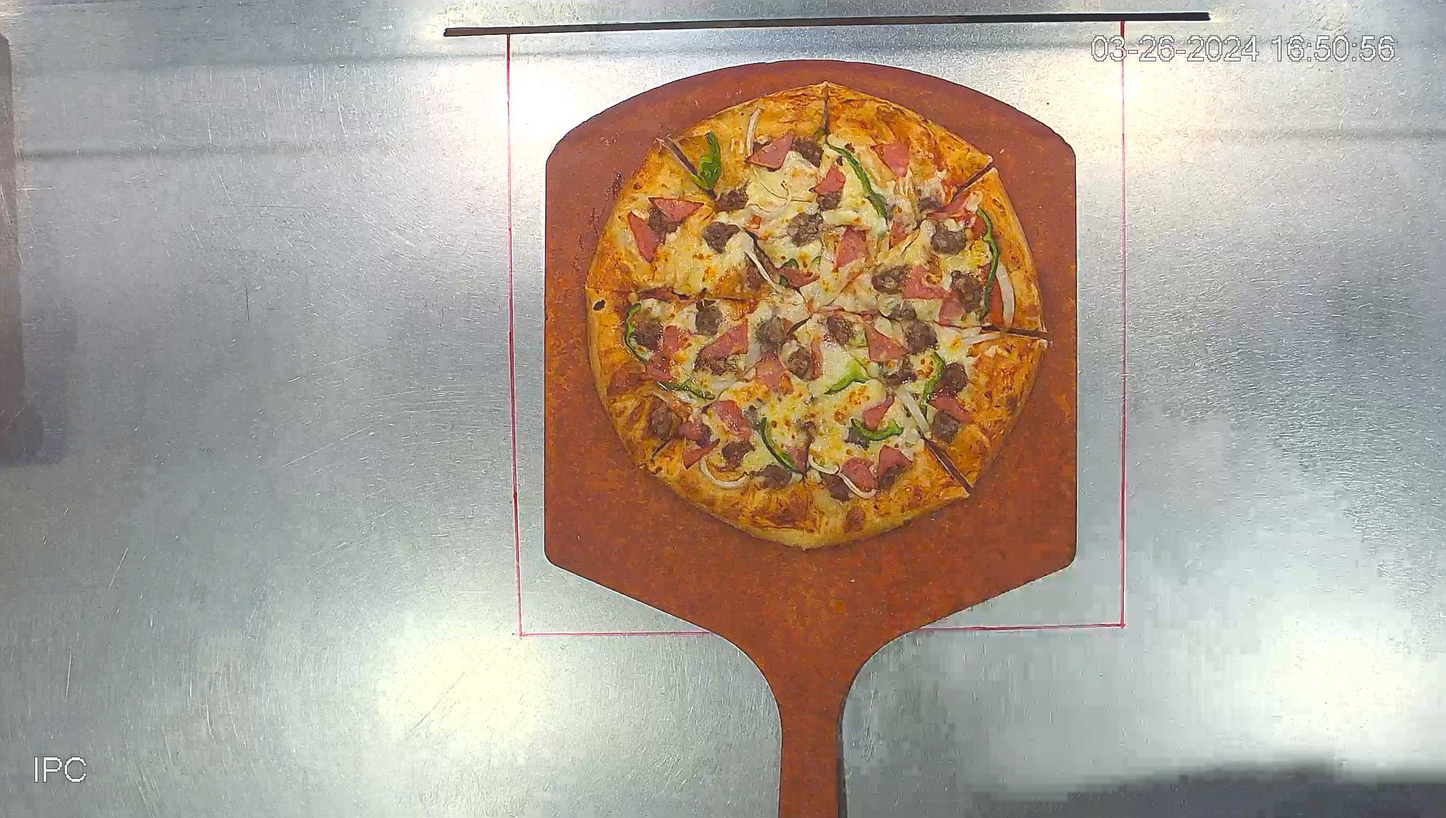hawaiian: (583, 78, 1046, 548)
